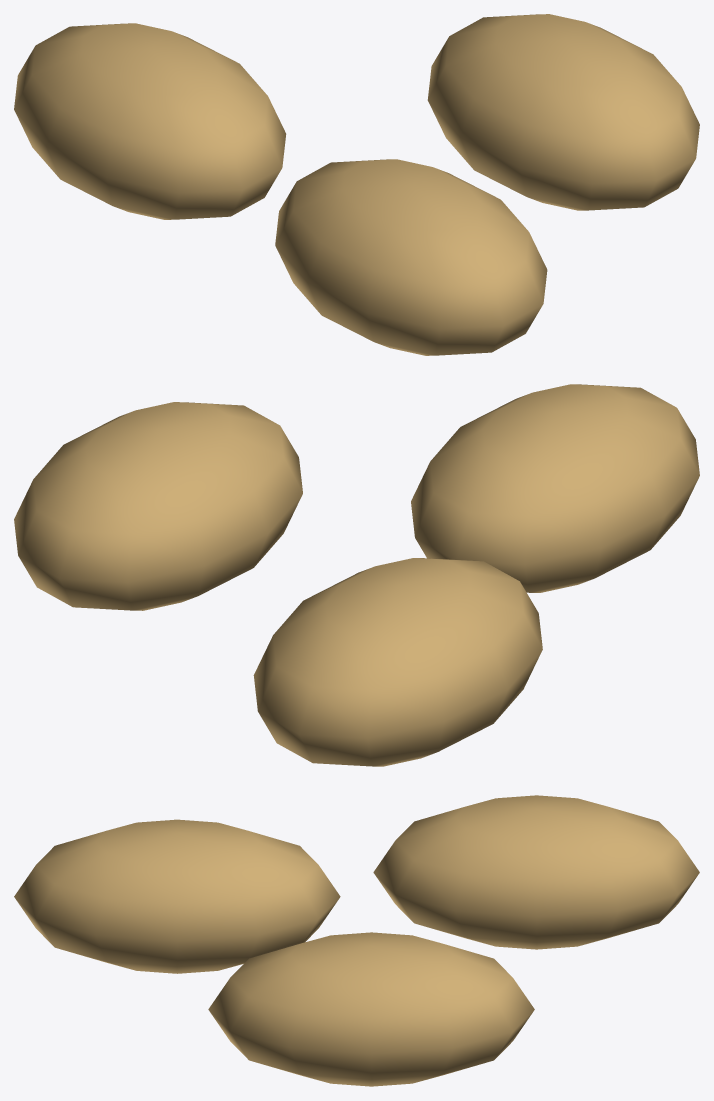
The model's file is crop_3_stage_0.fbx.
3 renders of one model, top to bottom at view 1: azimuth 30°, elevation 25°; view 2: azimuth 150°, elevation 25°; view 3: azimuth 270°, elevation 25°, orthographic. The views are drawn at different scales.
Parts seen in each view (by area): view 1: crop_3_stage_0; view 2: crop_3_stage_0; view 3: crop_3_stage_0.
Boxes of the visible parts, x1,y1,x2,y2 form: crop_3_stage_0: [14, 14, 699, 355]; crop_3_stage_0: [14, 384, 699, 766]; crop_3_stage_0: [14, 795, 699, 1086].
Bounding box in the file's own units: 0.1336 × 0.035 × 0.1715.
1 material, 1 textured.
